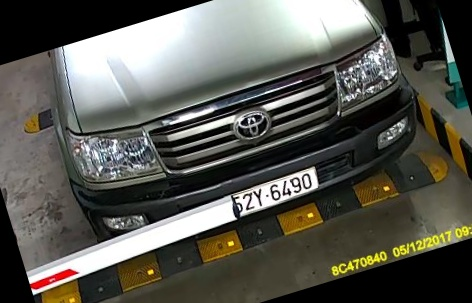plate: (220, 165, 326, 217)
